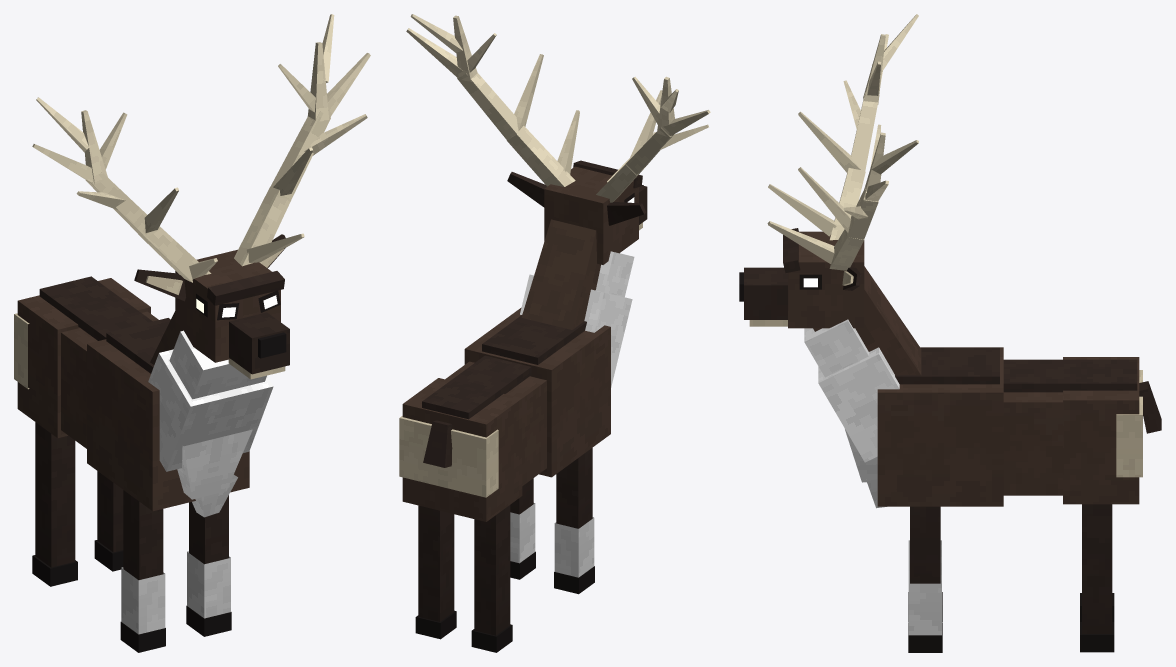
The model's file is mob_stag.glb.
3 views of the same model, side by side, from view 1: azimuth 30°, elevation 25°; view 2: azimuth 150°, elevation 25°; view 3: azimuth 270°, elevation 25° (orthographic). The views are drawn at different scales.
Visible parts, largest first — view 1: mob_stag, leg_fr, leg_br, leg_fl, leg_bl; view 2: mob_stag, leg_fr, leg_br, leg_bl, leg_fl, sway_tail; view 3: mob_stag, leg_fl, leg_bl, sway_tail.
Part boxes in pixels (box(x1,y1,x2,y2)): mob_stag: box(14, 14, 370, 517); leg_fr: box(120, 490, 165, 652); leg_br: box(32, 422, 77, 586); leg_fl: box(186, 495, 231, 636); leg_bl: box(94, 471, 123, 571); mob_stag: box(399, 14, 710, 521); leg_fr: box(554, 448, 594, 594); leg_br: box(471, 505, 512, 652); leg_bl: box(415, 505, 456, 639); leg_fl: box(510, 478, 535, 579); sway_tail: box(423, 420, 452, 467); mob_stag: box(739, 14, 1142, 508); leg_fl: box(908, 506, 942, 652); leg_bl: box(1080, 504, 1114, 652); sway_tail: box(1139, 381, 1161, 433).
Size of the model in its own units: 1.95 by 3.25 by 2.21.
9 materials, 5 textured.
